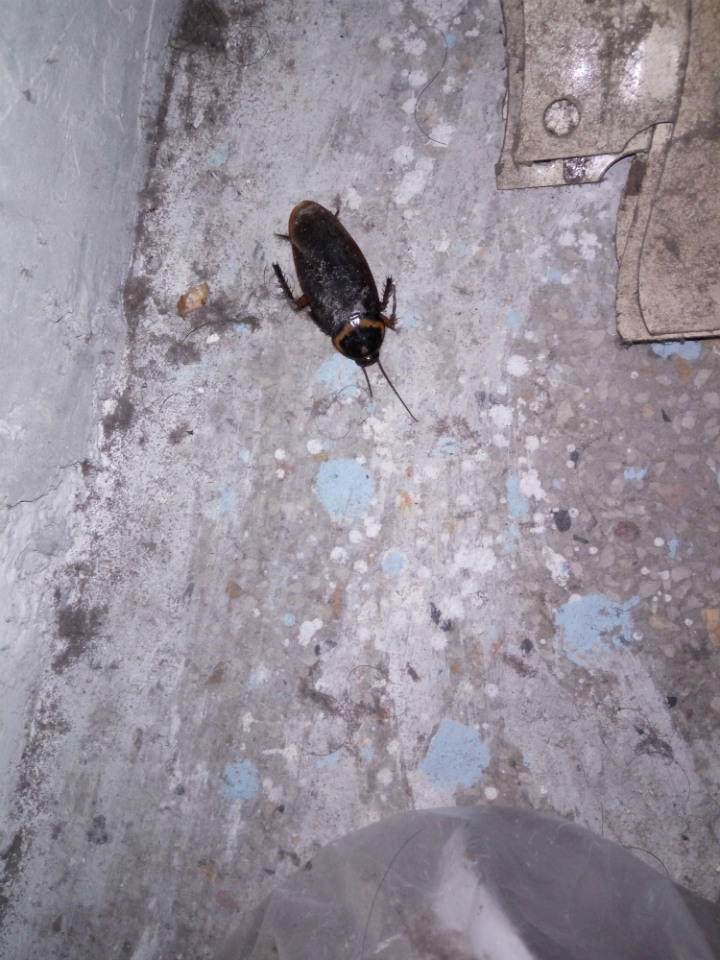cockroach: (168, 165, 513, 449)
